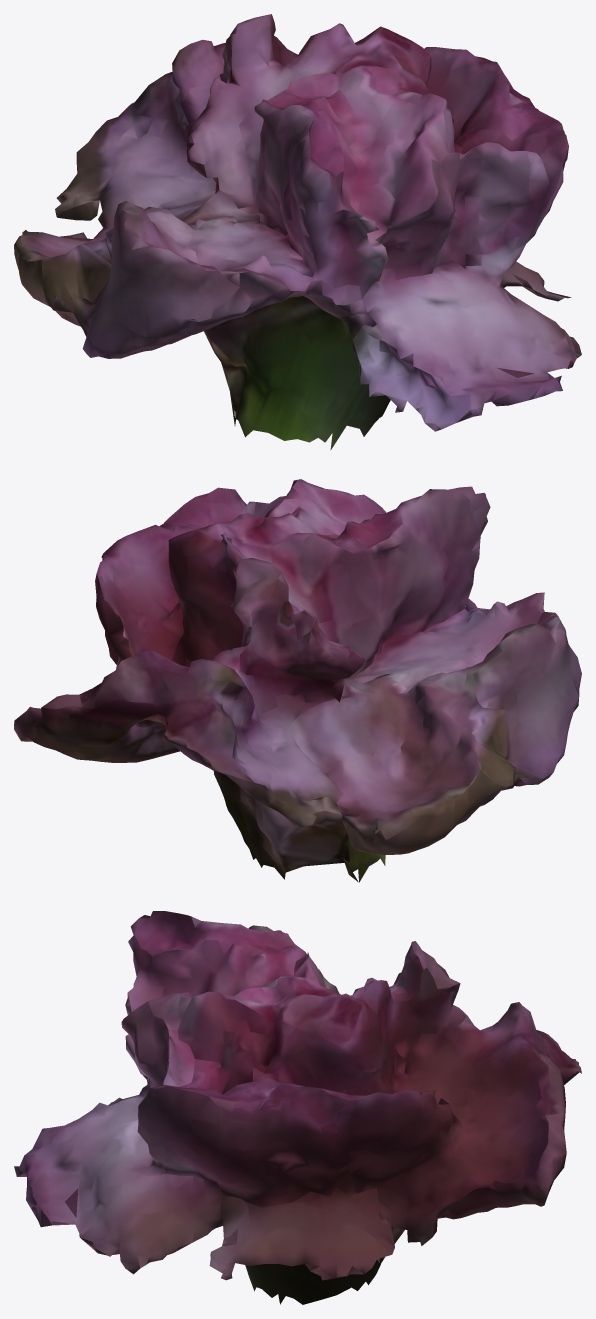
The picture shows the model from 3 angles, top to bottom: view 1: azimuth 30°, elevation 25°; view 2: azimuth 150°, elevation 25°; view 3: azimuth 270°, elevation 25°; orthographic projection. The views are drawn at different scales.
Parts seen in each view (by area): view 1: 5940c0da; view 2: 5940c0da; view 3: 5940c0da.
Boxes of the visible parts, x1,y1,x2,y2 form: 5940c0da: (14,14,581,450); 5940c0da: (14,479,581,882); 5940c0da: (14,911,581,1304).
Bounding box in the file's own units: 0.0594 × 0.0458 × 0.0695.
Materials: 1 (1 with a texture image).
